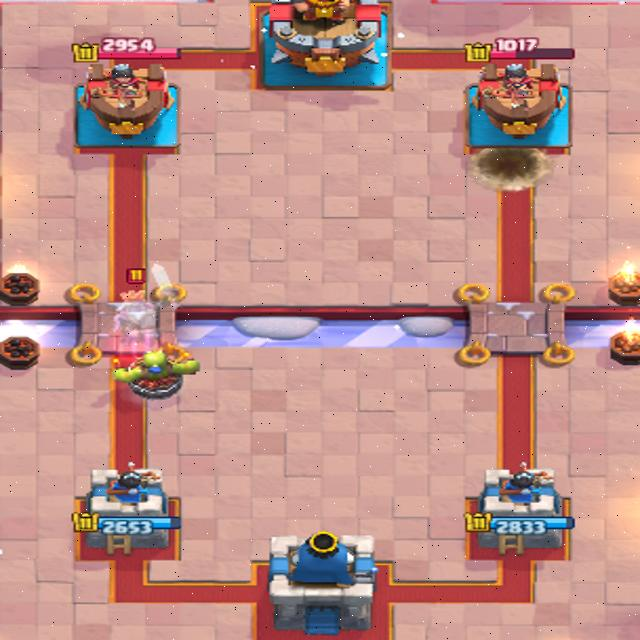EKingTower: (258, 0, 390, 89)
ERoyalGhost: (110, 264, 185, 351)
EnemyPrincessTower: (466, 63, 568, 145), (78, 64, 175, 139)
OGoblinDem: (114, 343, 199, 398)
OwnKingTower: (268, 531, 377, 634)
OwnPrincessTower: (465, 462, 573, 554), (86, 469, 178, 553)
